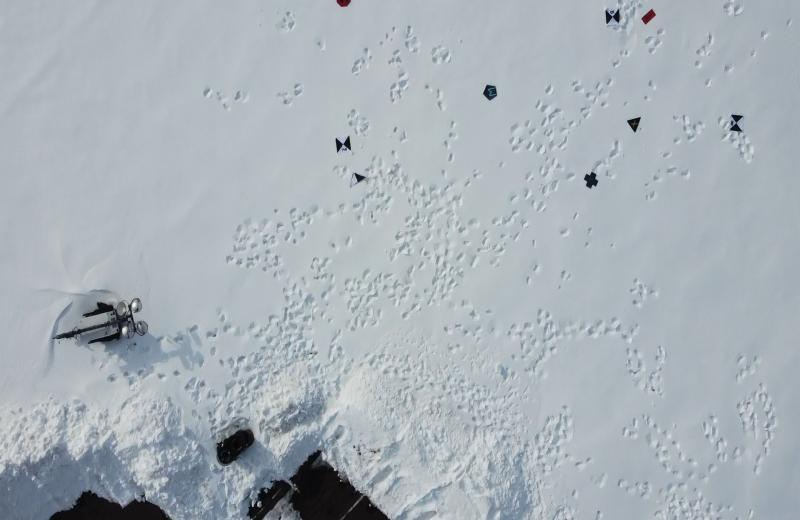Cross: (582, 170, 601, 189)
Octagon: (335, 0, 352, 8)
Pentagon: (482, 83, 497, 102)
Rectangle: (640, 8, 656, 26)
Triangle: (626, 116, 643, 133)
